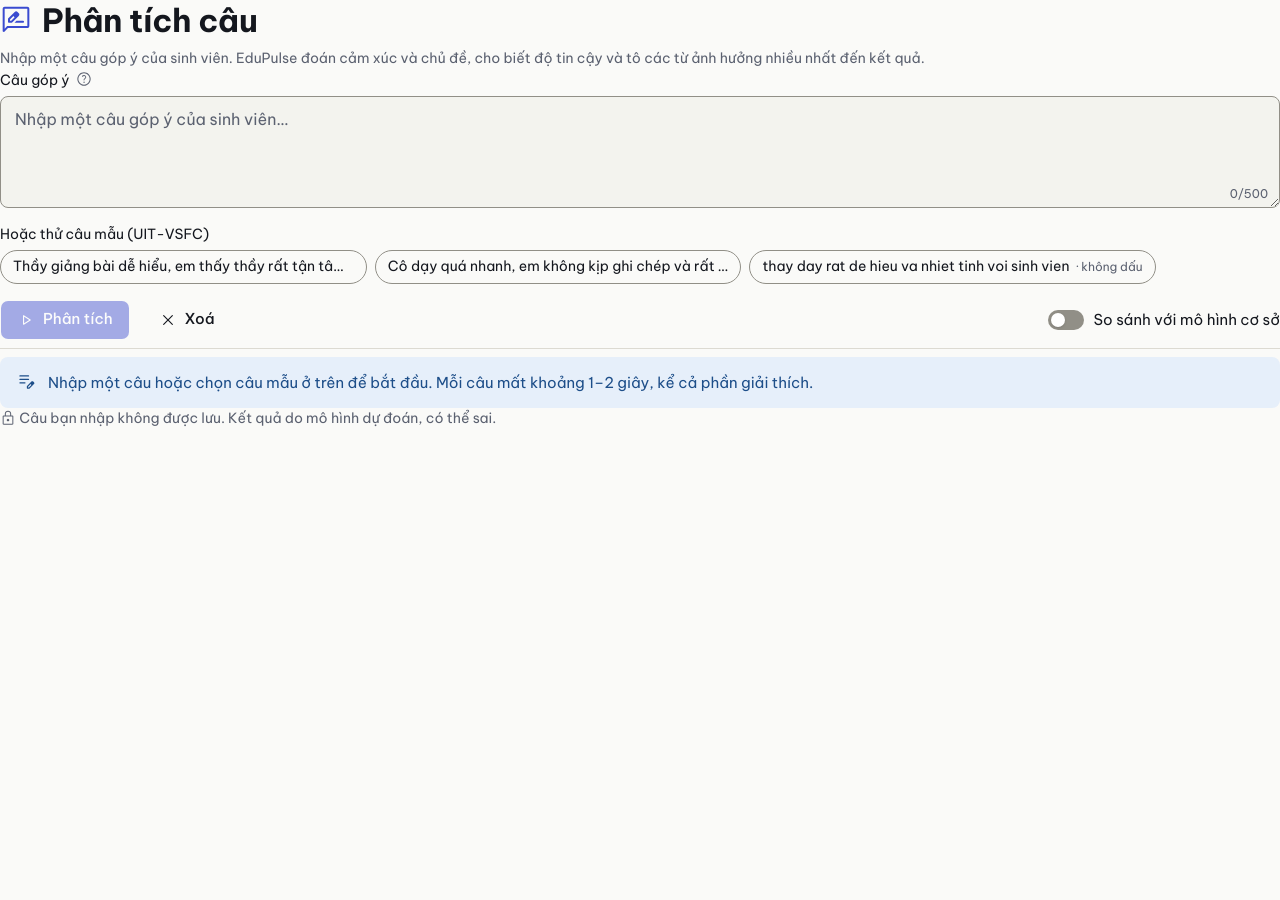
it: trang Phân tích câu › câu có thông tin cá nhân: báo đã ẩn và chỉ hiện câu đã ẩn
Click the text box labelled "Câu góp ý".
click(640, 152)  # box x1=0 y1=96 x2=1279 y2=208
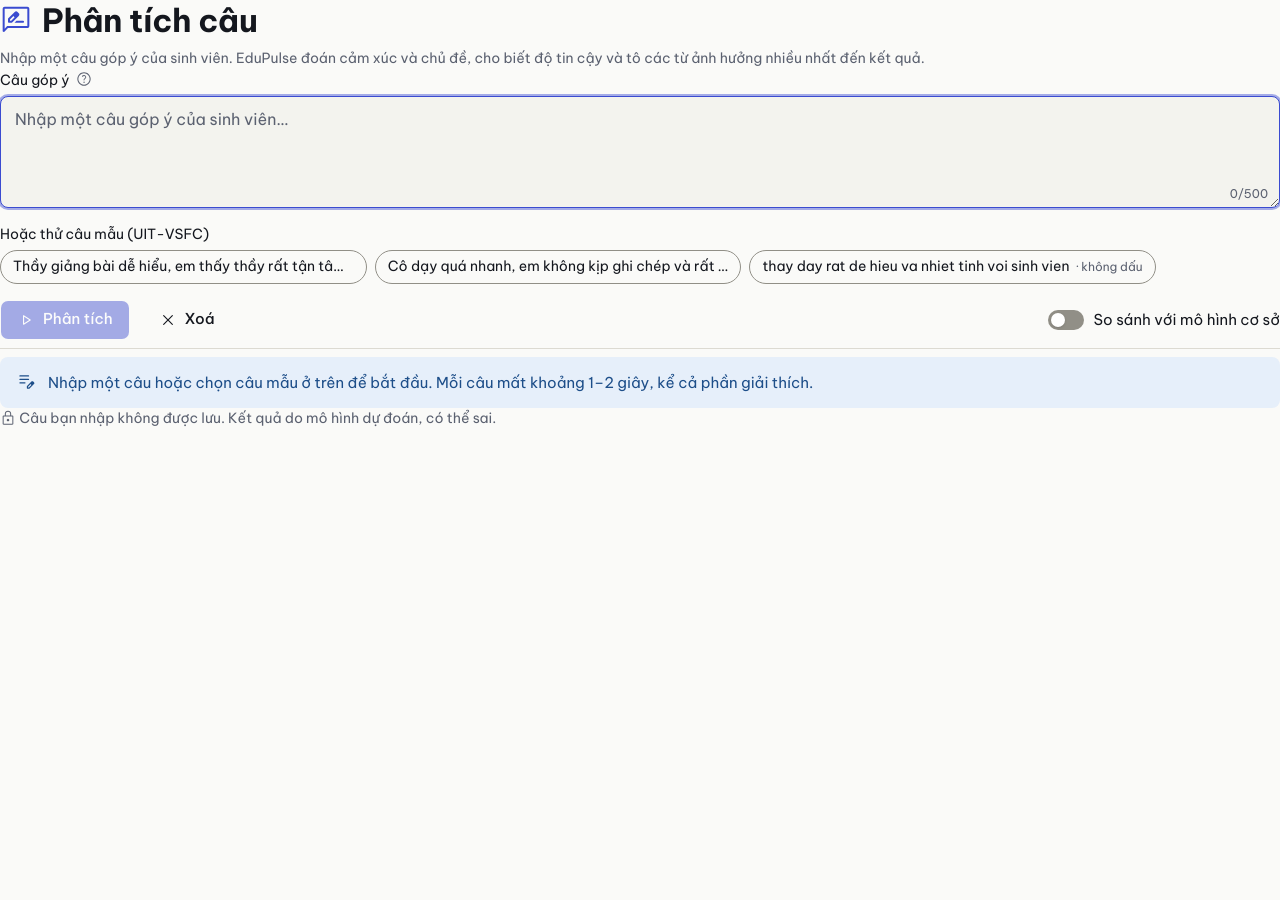
Type keys "Thầy giảng hay, em xin liên hệ 0912345678 để hỏi thêm về bài tập."
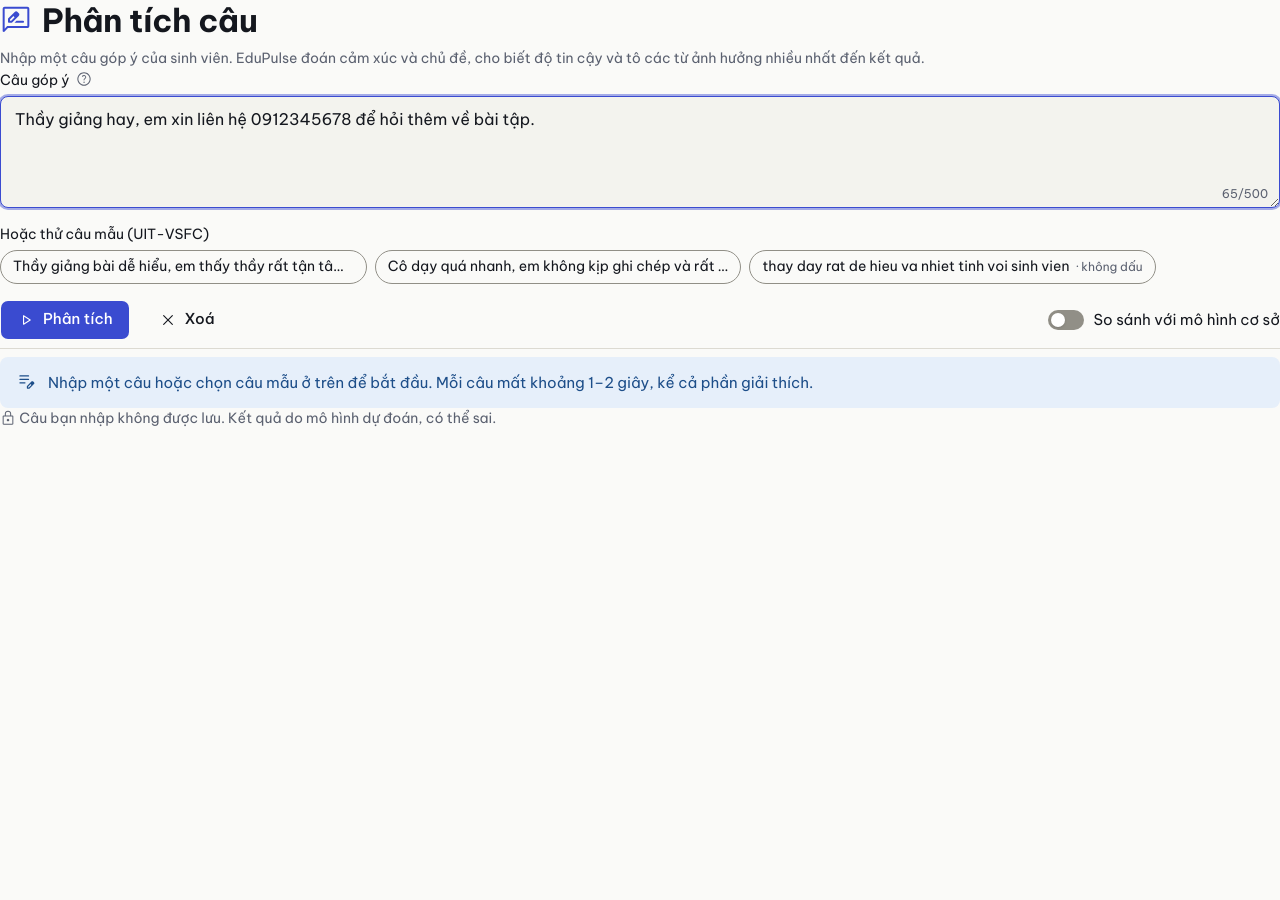
Click the button "Phân tích".
click(65, 320)  # box x1=0 y1=300 x2=130 y2=340
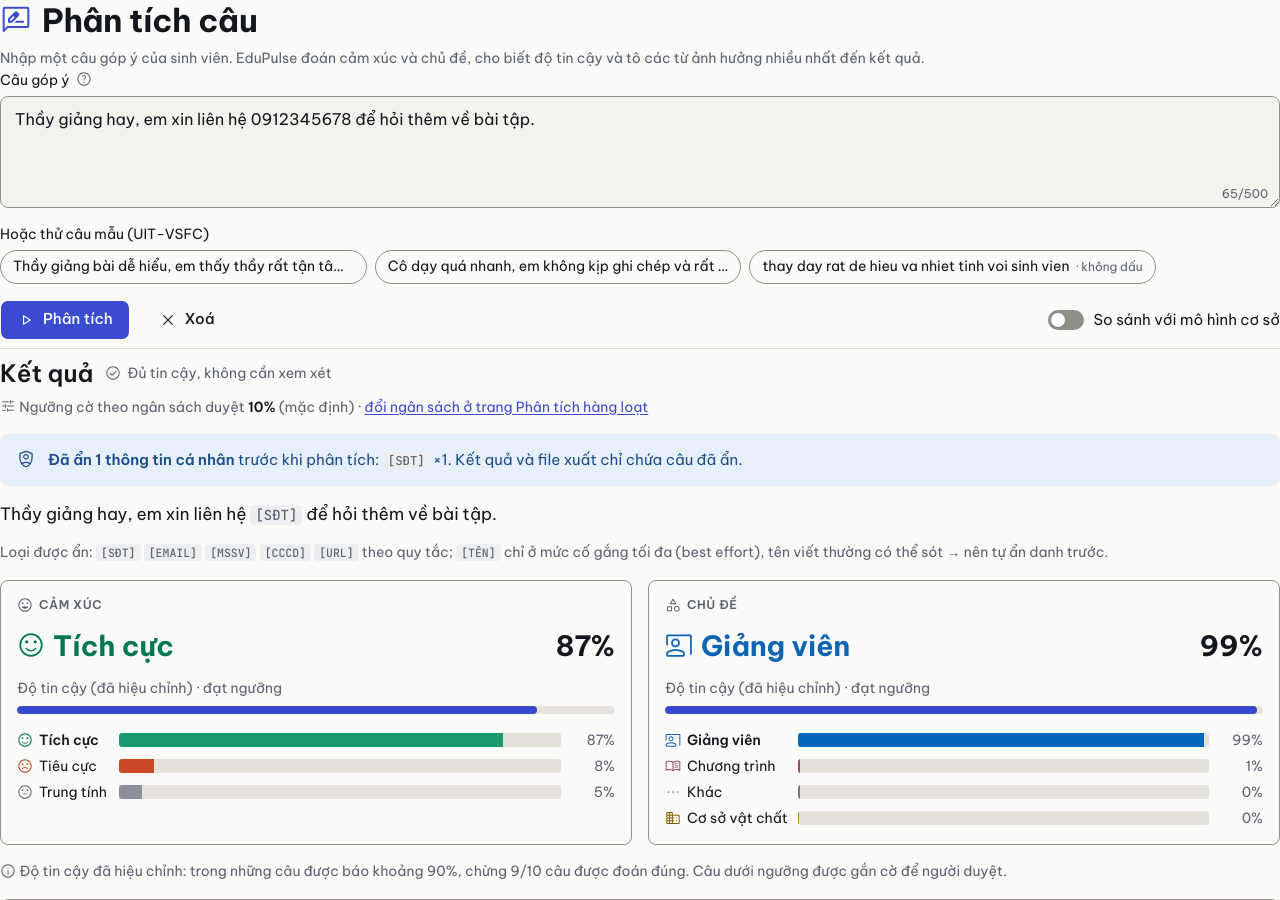
Result: the text "Đã ẩn 1 thông tin cá nhân" is shown at x1=48 y1=450 x2=235 y2=469
Result: the text "[SĐT]" next to "trước khi phân tích:" is shown at x1=388 y1=452 x2=425 y2=469
